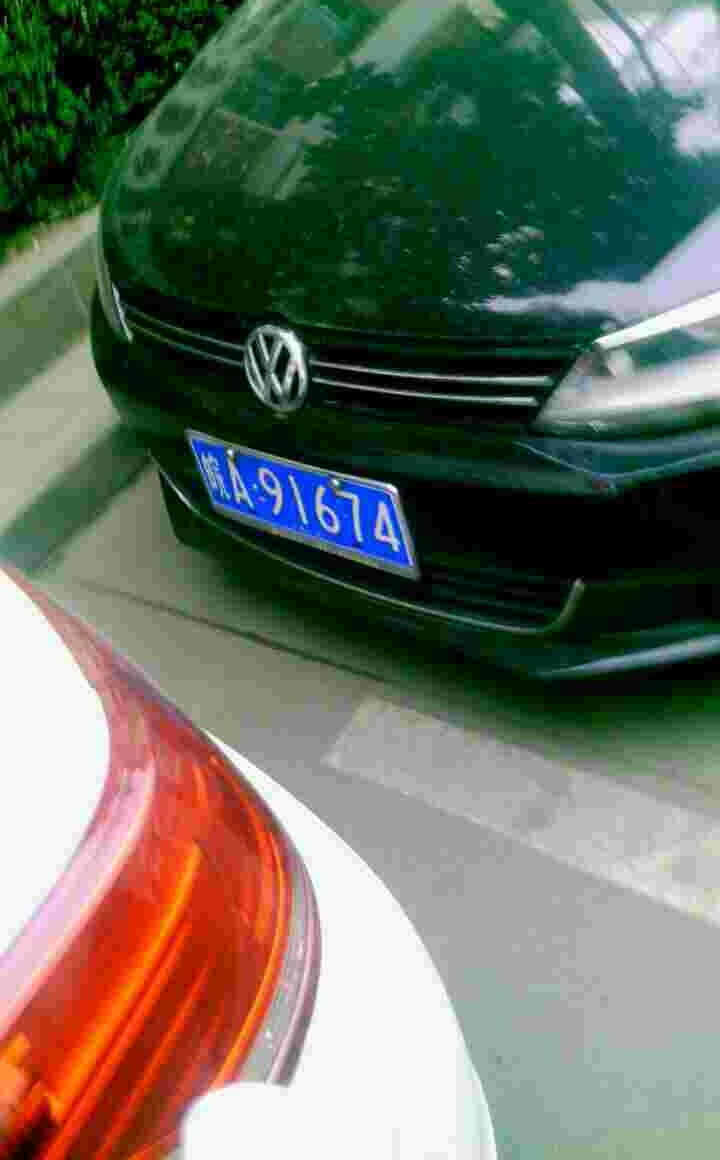license_plate: (196, 431, 415, 574)
